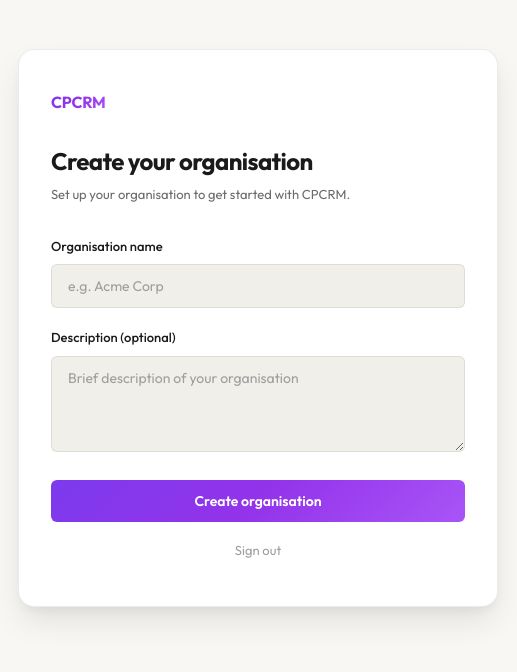
OrganisationProvisioningPage › shows a network error message when fetch throws
Type "Acme Corp" into the field labelled "Organisation name" at (258,286), box [51,264,465,308]
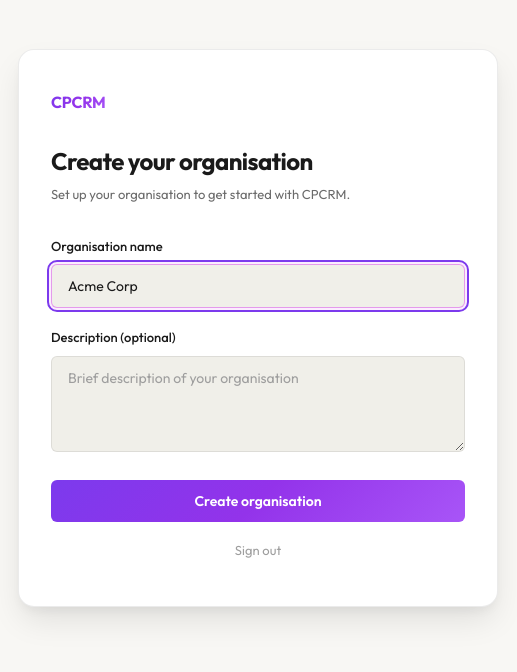
Click the button "Create organisation" at (258,501), box [51,480,465,522]
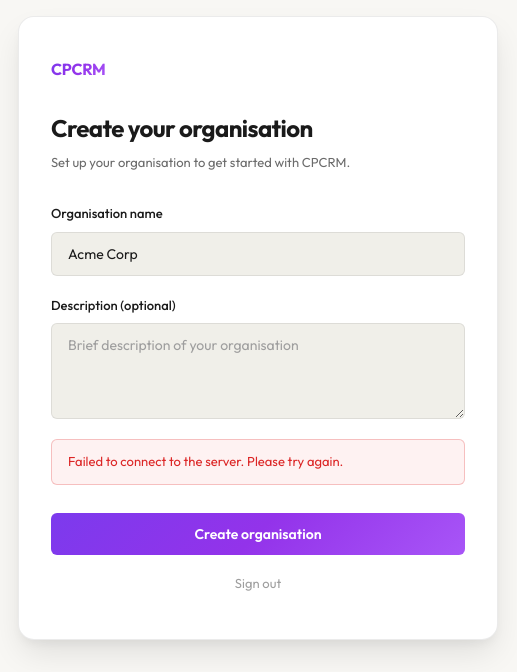
Result: the message reads "Failed to connect to the server. Please try again." at [68,453,343,469]
